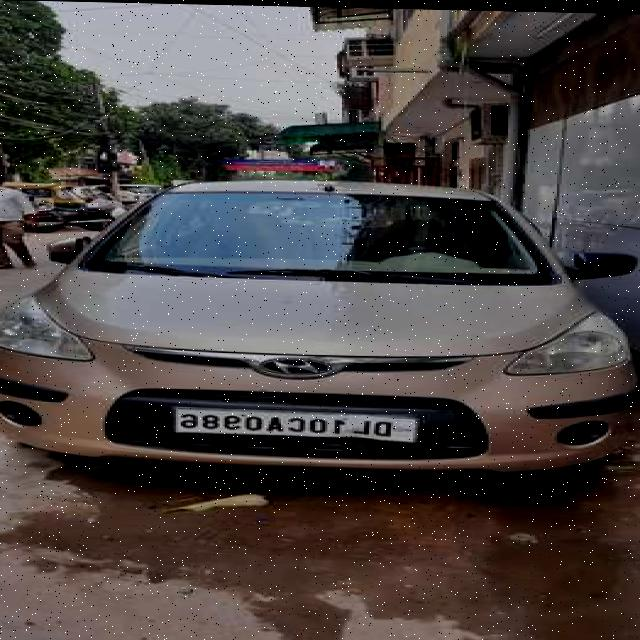plate: (174, 406, 416, 439)
